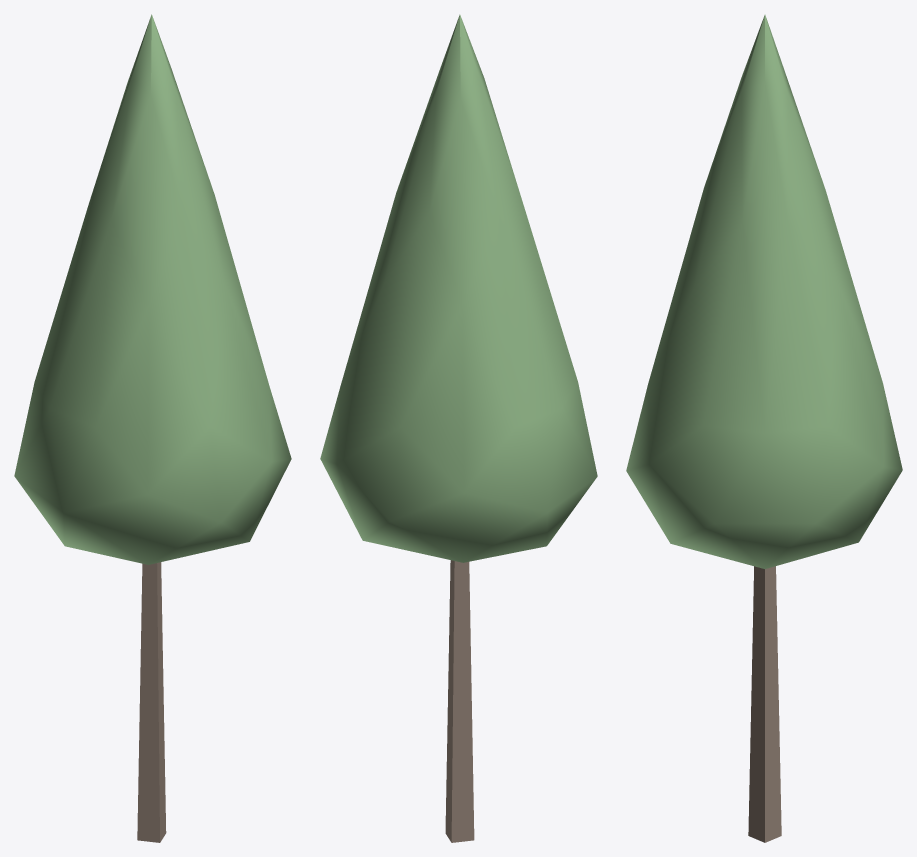
The model's file is tree-conifer-a-far.glb.
3 views of the same model, side by side, from view 1: azimuth 30°, elevation 25°; view 2: azimuth 150°, elevation 25°; view 3: azimuth 270°, elevation 25° (orthographic).
Parts seen in each view (by area): view 1: tree-conifer-a-far; view 2: tree-conifer-a-far; view 3: tree-conifer-a-far.
Part boxes in pixels (x1,y1,x2,y2): tree-conifer-a-far: [14, 14, 291, 842]; tree-conifer-a-far: [320, 14, 597, 842]; tree-conifer-a-far: [626, 14, 902, 842].
Size of the model in its own units: 0.2893 by 1 by 0.3051.
